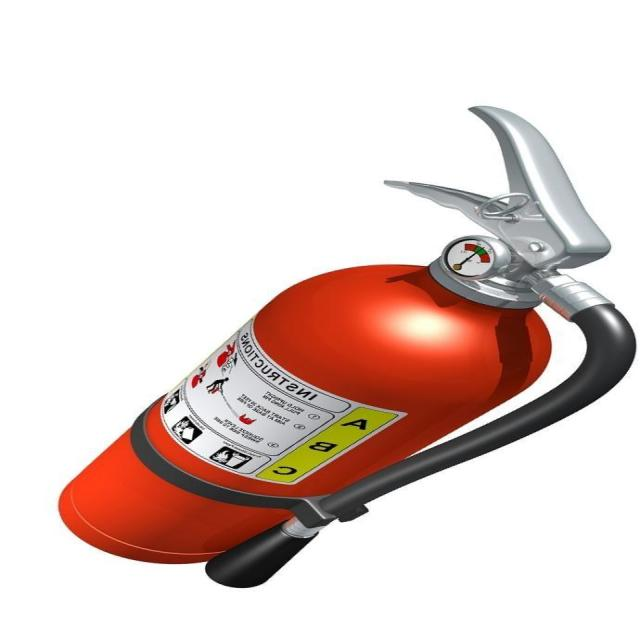fire_extinguisher: (51, 96, 639, 594)
